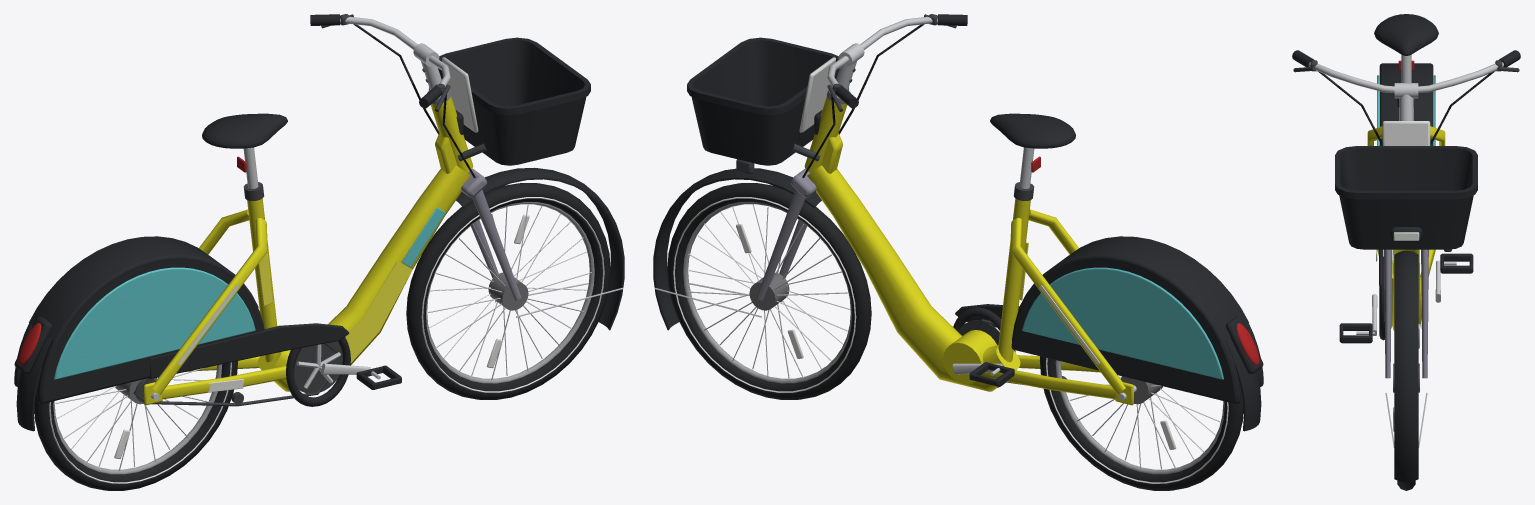
File: sterling-bike-blockout.glb
The picture shows the model from 3 angles, left to right: view 1: azimuth 30°, elevation 25°; view 2: azimuth 150°, elevation 25°; view 3: azimuth 270°, elevation 25°; orthographic projection. The views are drawn at different scales.
Visible parts, largest first — view 1: SB_BasketTub, SB_Branding_RearCover_Left, SB_FrontWheel_Tyre, SB_RearWheelCover_Crown, SB_RearWheelCover_Left, SB_Frame_BatteryShell, SB_RearWheel_Tyre, SB_ChainGuard, SB_FrontMudguard, SB_FrontWheel, SB_Saddle, SB_RearStay_Left (+18 smaller); view 2: SB_BasketTub, SB_Branding_RearCover_Right, SB_FrontWheel_Tyre, SB_Frame_BatteryShell, SB_RearWheelCover_Right, SB_RearWheelCover_Crown, SB_RearWheel_Tyre, SB_FrontMudguard, SB_FrontWheel, SB_Saddle, SB_RearStay_Right, SB_FrontWheel_Rim (+13 smaller); view 3: SB_BasketTub, SB_FrontMudguard, SB_RearWheelCover_Crown, SB_Saddle, SB_Handlebar, SB_HeadUnitPanel, SB_Fork_Left, SB_Fork_Right, SB_Frame_BatteryShell, SB_ChainringGuard, SB_Stem, SB_HandlebarClamp (+6 smaller).
Boxes of the visible parts, x1,y1,x2,y2 form: SB_BasketTub: (438,37,590,165); SB_Branding_RearCover_Left: (54,267,255,379); SB_FrontWheel_Tyre: (406,183,610,399); SB_RearWheelCover_Crown: (29,236,258,343); SB_RearWheelCover_Left: (37,259,264,403); SB_Frame_BatteryShell: (257,165,470,391); SB_RearWheel_Tyre: (34,361,237,490); SB_ChainGuard: (149,323,348,378); SB_FrontMudguard: (456,167,624,330); SB_FrontWheel: (428,205,591,380); SB_Saddle: (202,113,287,148); SB_RearStay_Left: (152,218,267,394); SB_BasketTub: (687,37,839,165); SB_Branding_RearCover_Right: (1022,267,1223,379); SB_FrontWheel_Tyre: (667,183,871,399); SB_Frame_BatteryShell: (807,165,1020,391); SB_RearWheelCover_Right: (1011,259,1240,403); SB_RearWheelCover_Crown: (1019,236,1248,343); SB_RearWheel_Tyre: (1039,356,1243,490); SB_FrontMudguard: (653,168,821,330); SB_FrontWheel: (688,204,850,378); SB_Saddle: (990,113,1075,148); SB_RearStay_Right: (1010,218,1125,394); SB_FrontWheel_Rim: (683,202,851,383); SB_BasketTub: (1335,146,1477,249); SB_FrontMudguard: (1394,250,1418,482); SB_RearWheelCover_Crown: (1379,63,1433,145); SB_Saddle: (1374,14,1438,55); SB_Handlebar: (1309,62,1503,93); SB_HeadUnitPanel: (1382,121,1430,145); SB_Fork_Left: (1384,249,1391,378); SB_Fork_Right: (1421,249,1428,378); SB_Frame_BatteryShell: (1392,249,1421,330); SB_ChainringGuard: (1379,256,1384,340); SB_Stem: (1399,94,1413,120); SB_HandlebarClamp: (1394,83,1418,98).
Size of the model in its own units: 2.12 by 1.26 by 0.7188.
Materials: 15 (4 with a texture image).
